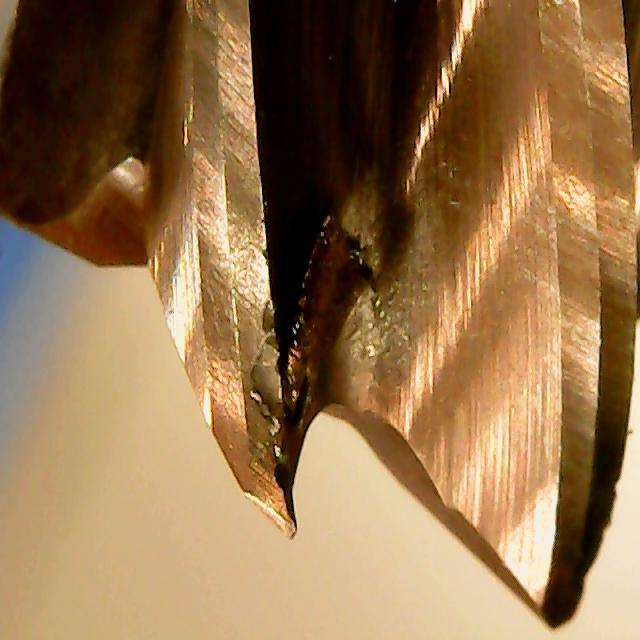Tool-wear-class-2: (173, 215, 323, 543)
